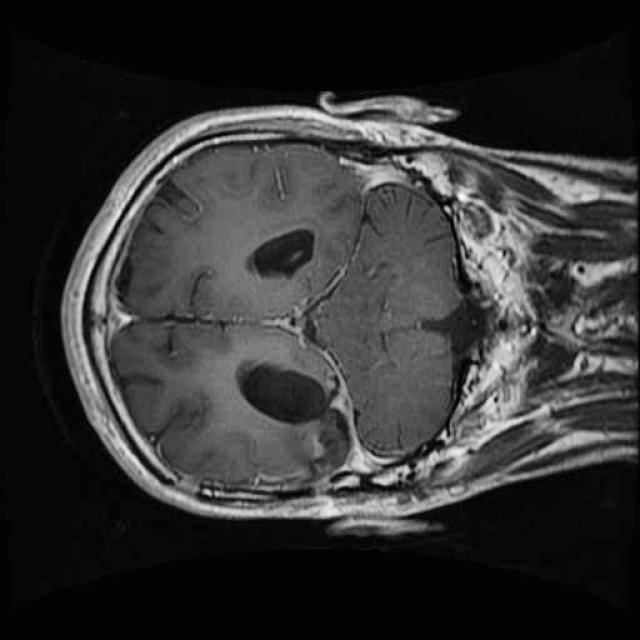Non-Tumor: (285, 346, 364, 495)
